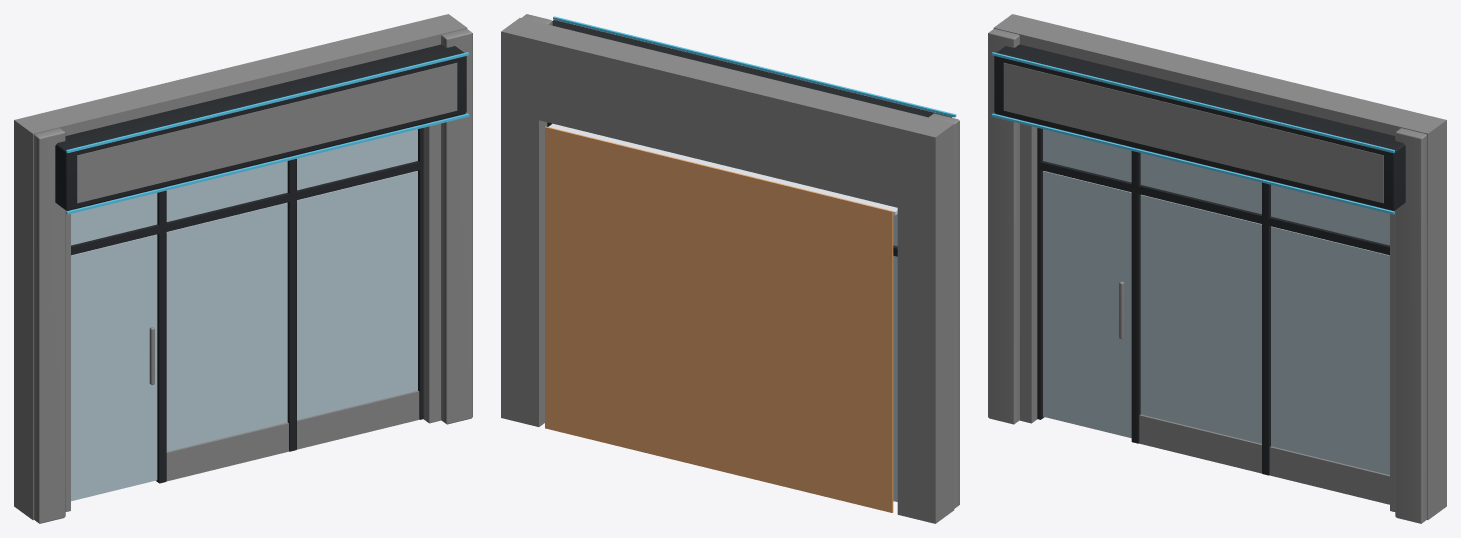
File: Building_Facade_Concrete_Shop_Glass.fbx
The picture shows the model from 3 angles, left to right: view 1: azimuth 30°, elevation 25°; view 2: azimuth 150°, elevation 25°; view 3: azimuth 330°, elevation 25°; orthographic projection.
Parts seen in each view (by area): view 1: Building_Facade_Concrete_Shop_Glass_LOD0; view 2: Building_Facade_Concrete_Shop_Glass_LOD0; view 3: Building_Facade_Concrete_Shop_Glass_LOD0.
Part boxes in pixels (left/top/right/bottom): Building_Facade_Concrete_Shop_Glass_LOD0: left=14, top=14, right=472, bottom=523; Building_Facade_Concrete_Shop_Glass_LOD0: left=501, top=14, right=959, bottom=523; Building_Facade_Concrete_Shop_Glass_LOD0: left=988, top=14, right=1446, bottom=523.
Size of what is drawn, in the model's own units: 4 by 3.4 by 0.59.
